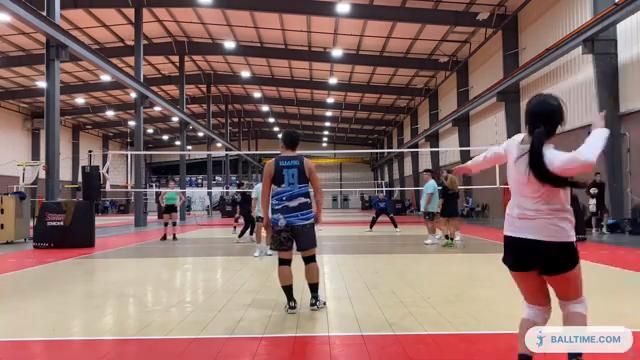battuta: (439, 88, 612, 324)
